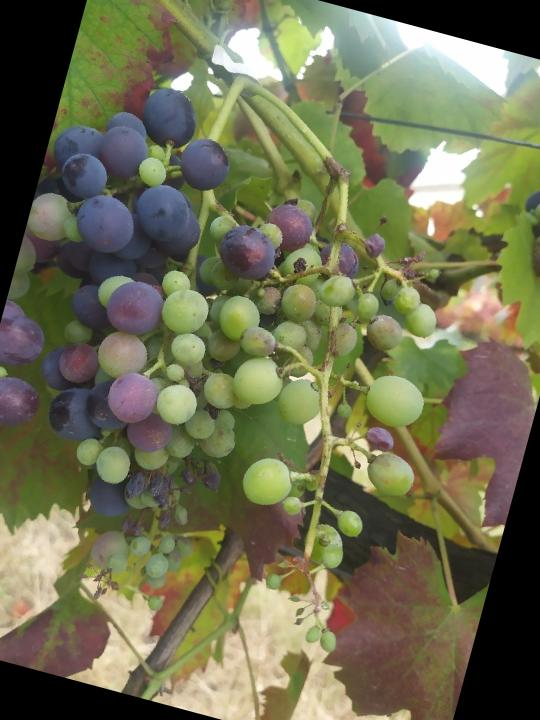grape: (0, 60, 320, 624), (121, 173, 481, 668)
